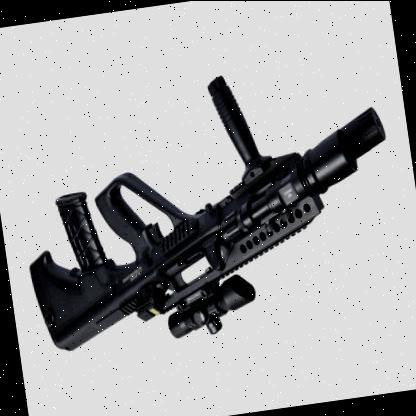rifle: (6, 56, 416, 387)
